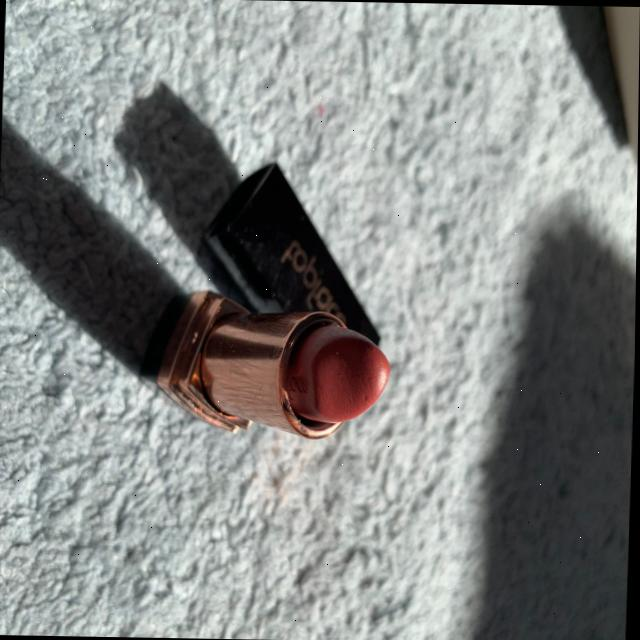lip gloss: (130, 282, 413, 443)
